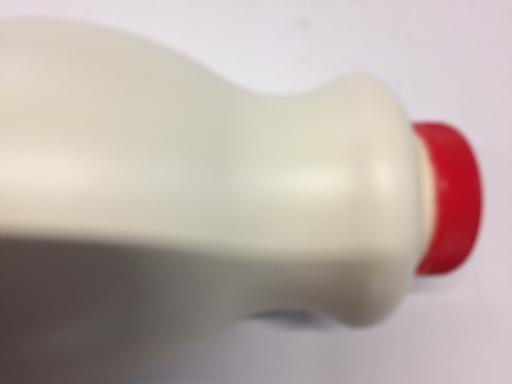plastic: (0, 14, 489, 369)
